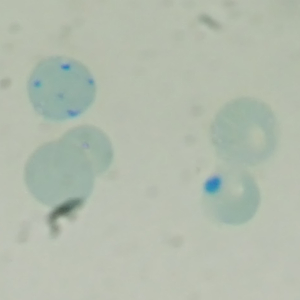aggregate reticulocyte: (25, 55, 97, 123)
erythrocyte: (208, 96, 281, 168), (22, 140, 96, 211), (201, 159, 261, 226), (55, 122, 116, 178)
